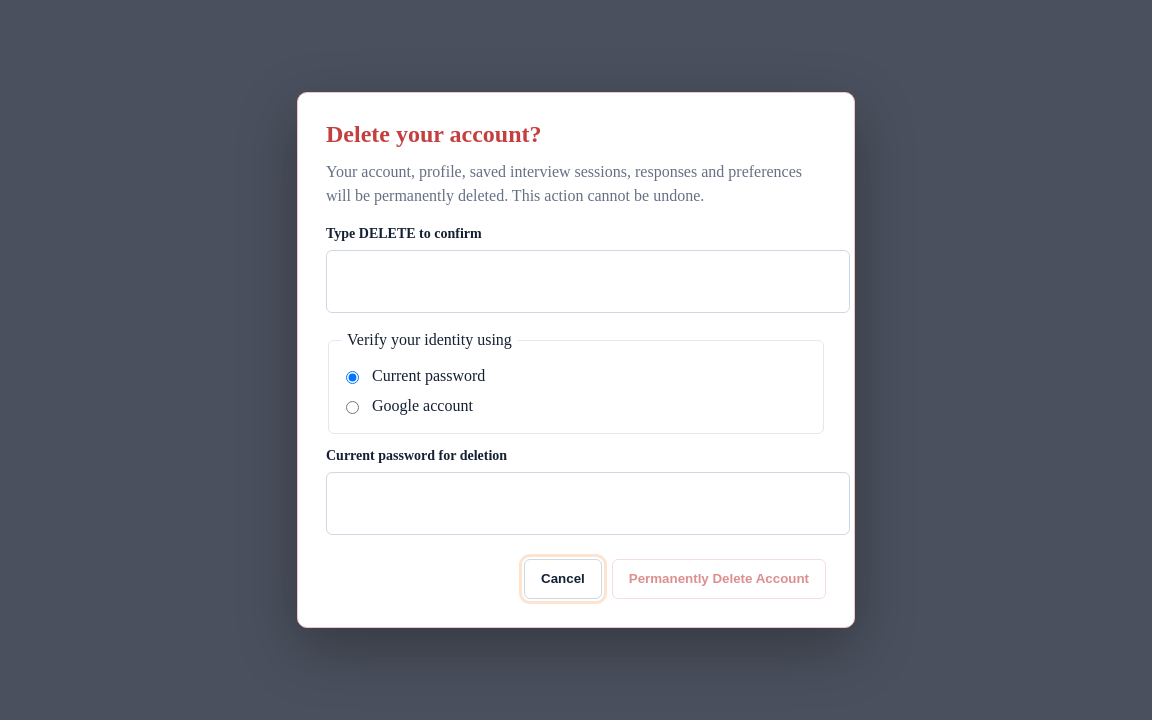
Test: failure stays in dialog without navigating
Type "DELETE" into the field labelled "Type DELETE to confirm" at (588, 282), box [326,250,850,313]
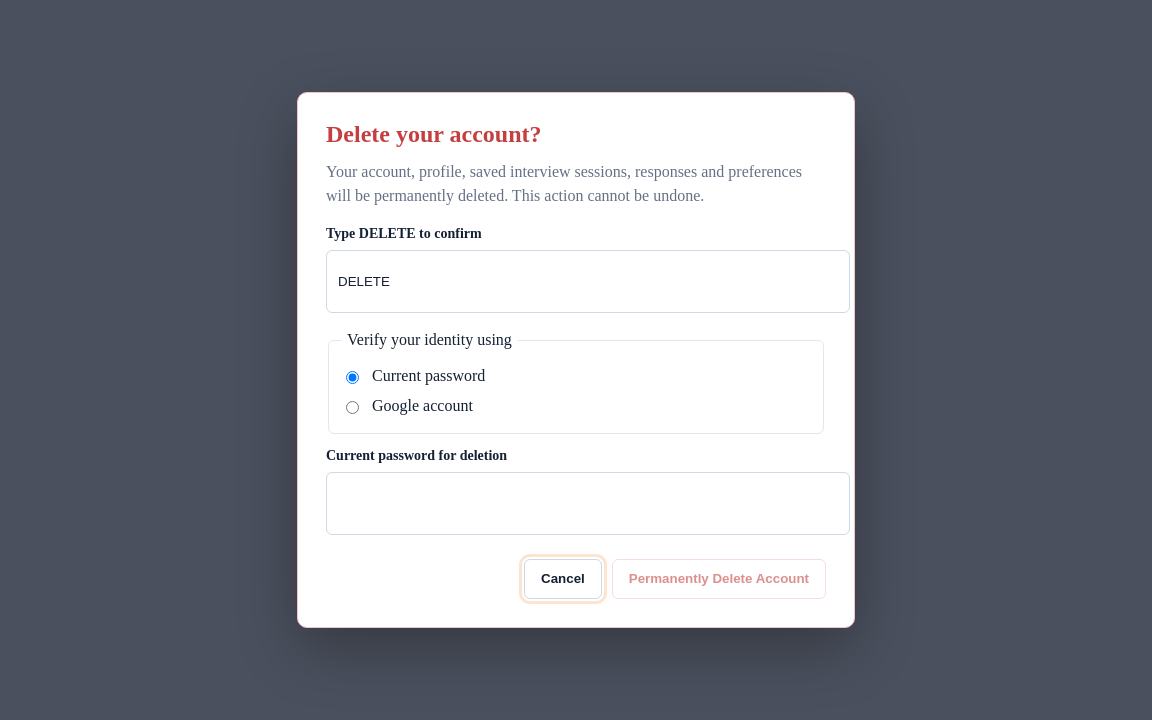
Type "wrong" into the password field labelled "Current password for deletion" at (588, 504), box [326,472,850,535]
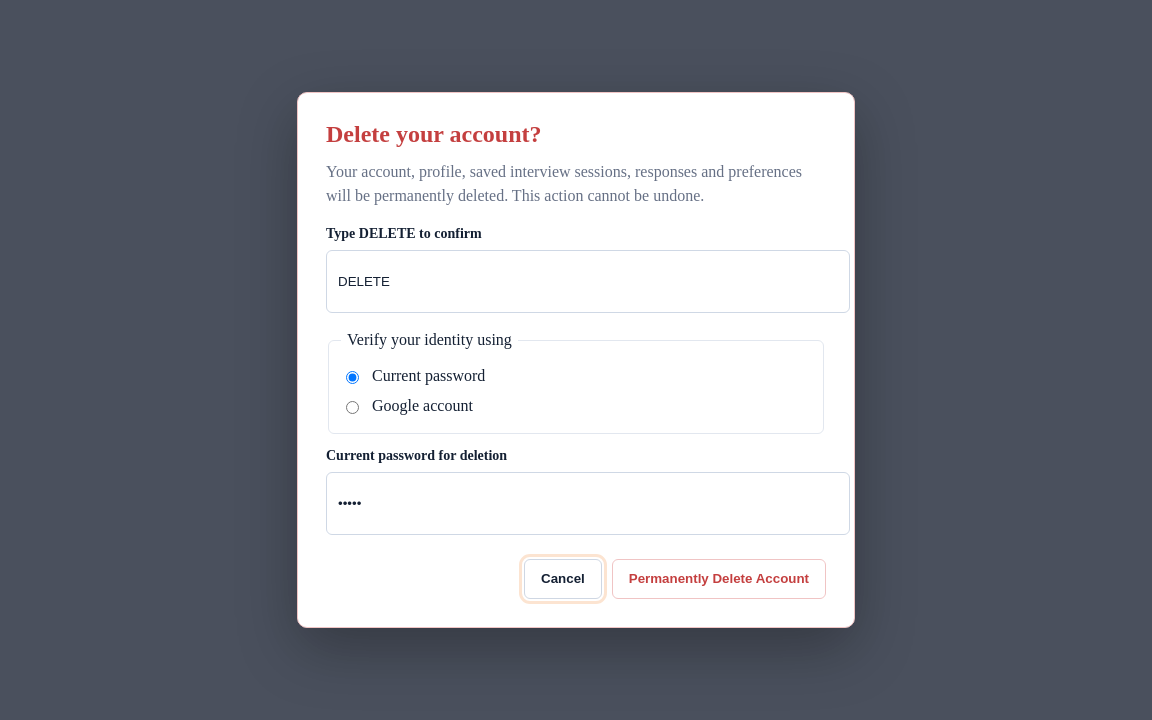
Click the button "Permanently Delete Account" at (719, 579), box [612,559,826,599]
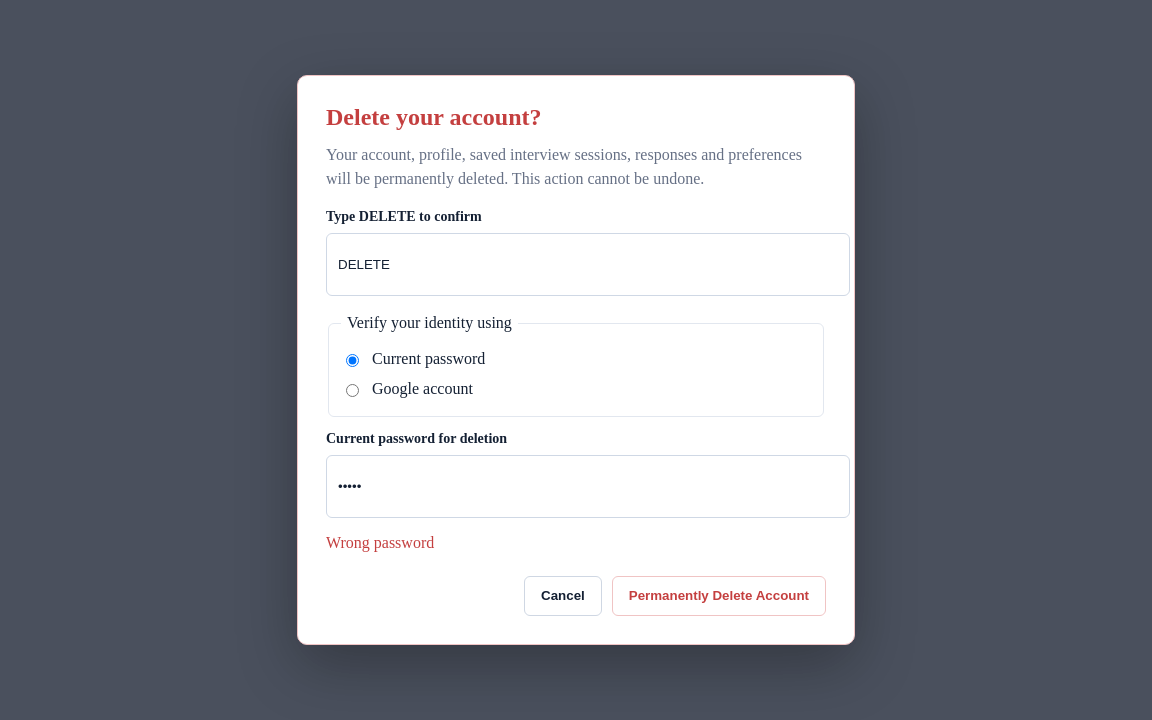
Check: the message reads "Wrong password", box [326,534,434,551]
